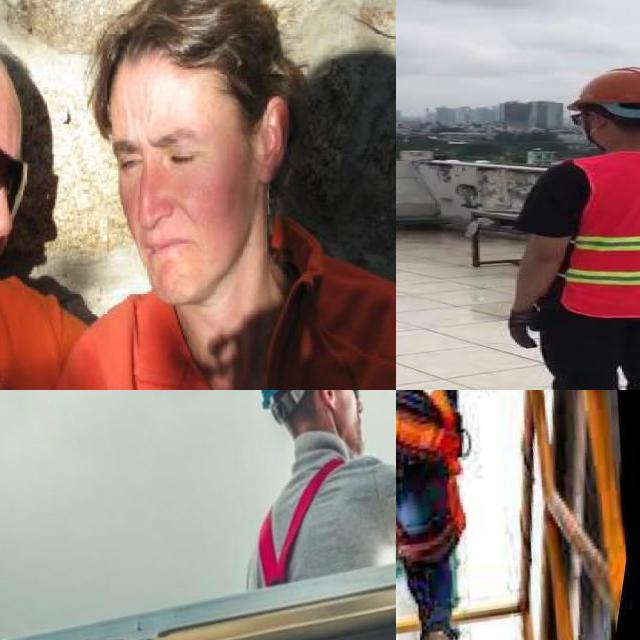Harness: (259, 457, 345, 586), (396, 390, 470, 533)
face_nomask: (107, 134, 225, 278), (0, 132, 26, 301)
hand_glove: (508, 307, 546, 348)
head_helmet: (566, 65, 640, 109)
head_nohelmet: (88, 0, 282, 110)
person: (75, 0, 359, 390), (485, 62, 640, 390)
vest: (565, 152, 640, 315)
